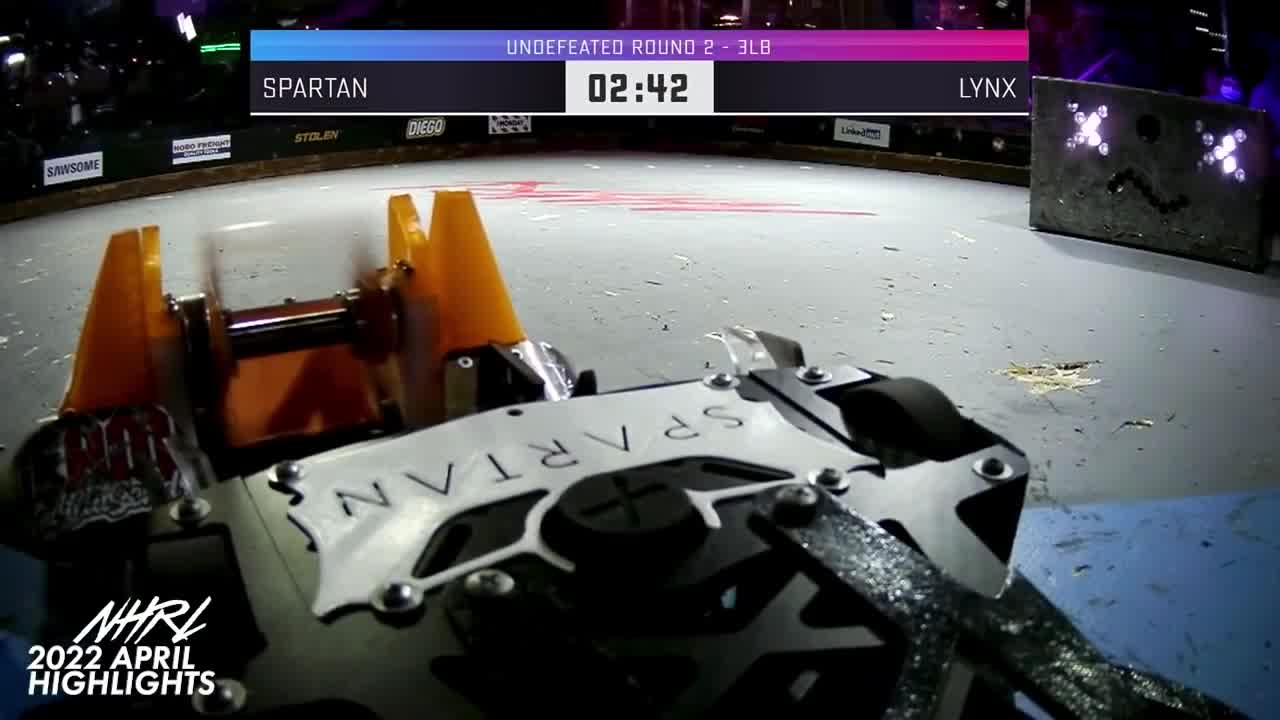combatbot: (153, 373, 1031, 720), (20, 189, 588, 462)
housebot: (1027, 73, 1276, 277)
